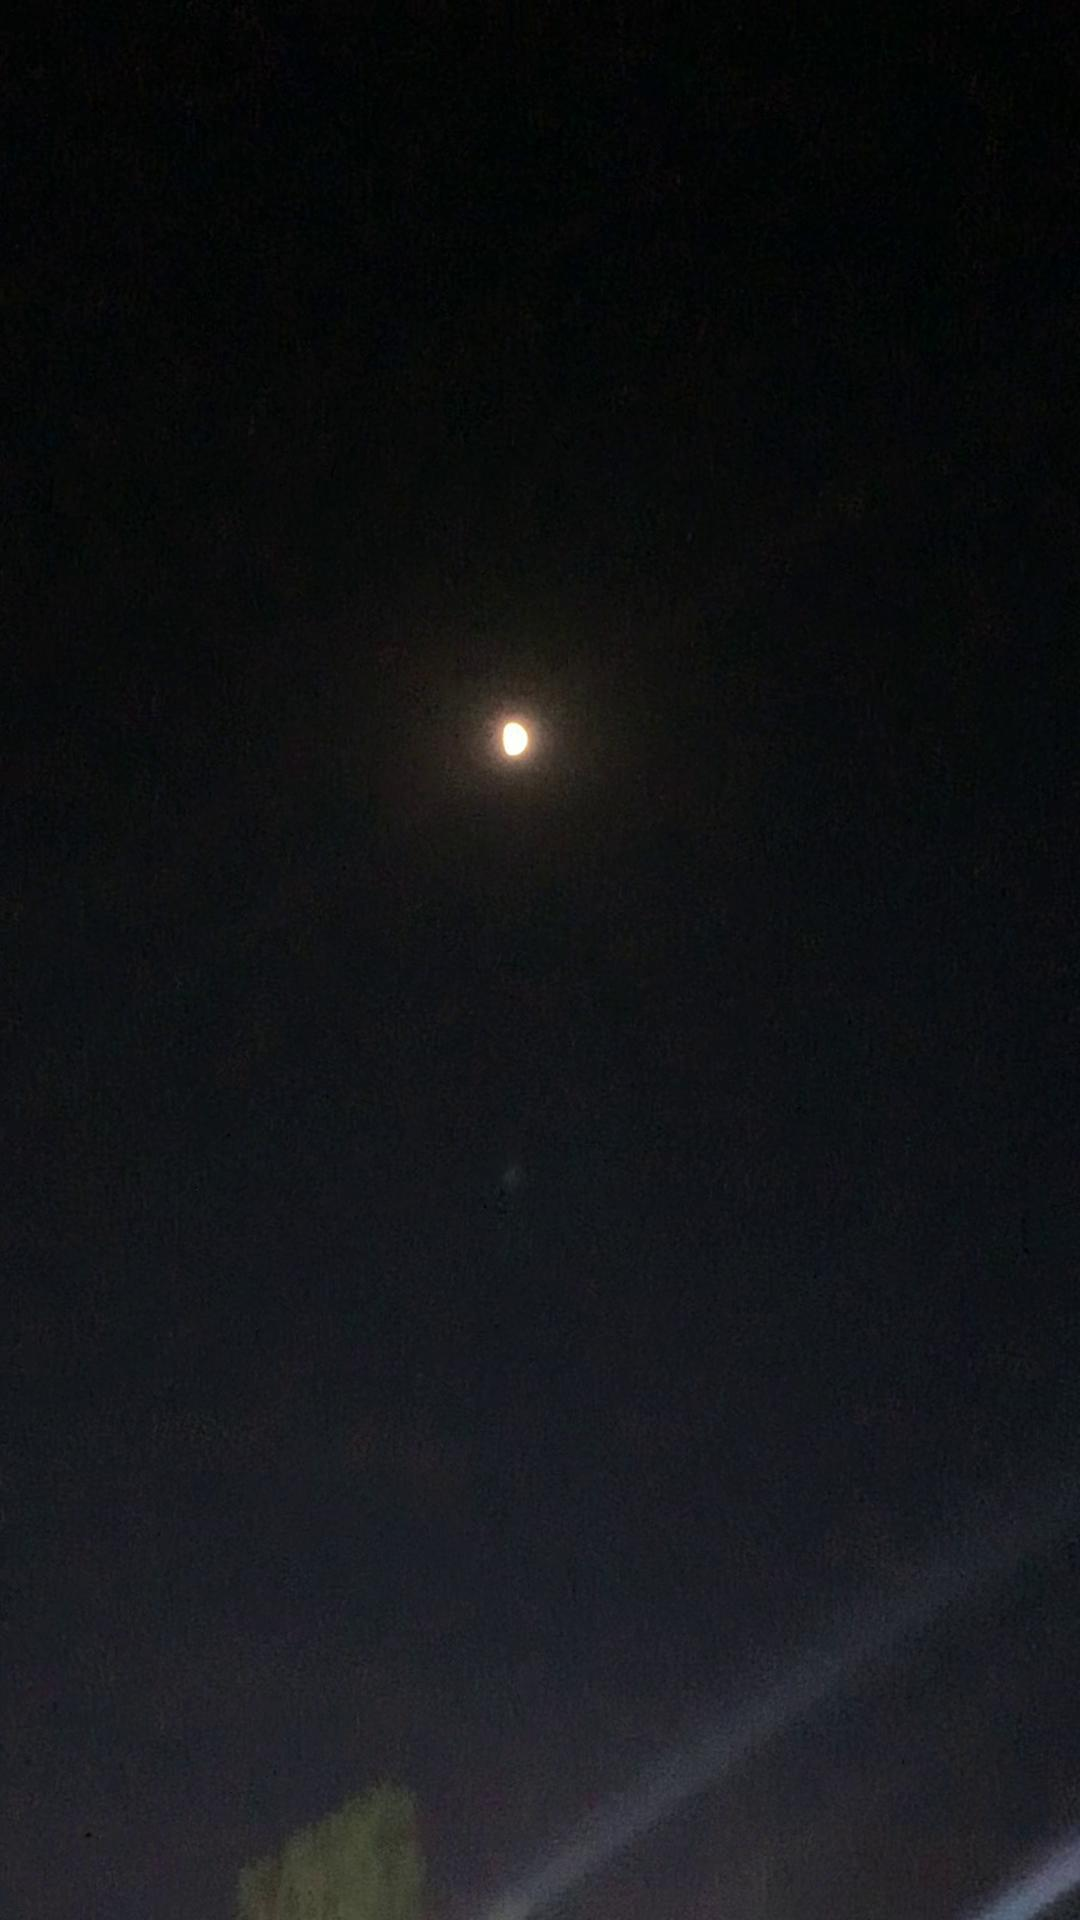moon: (402, 663, 491, 756)
